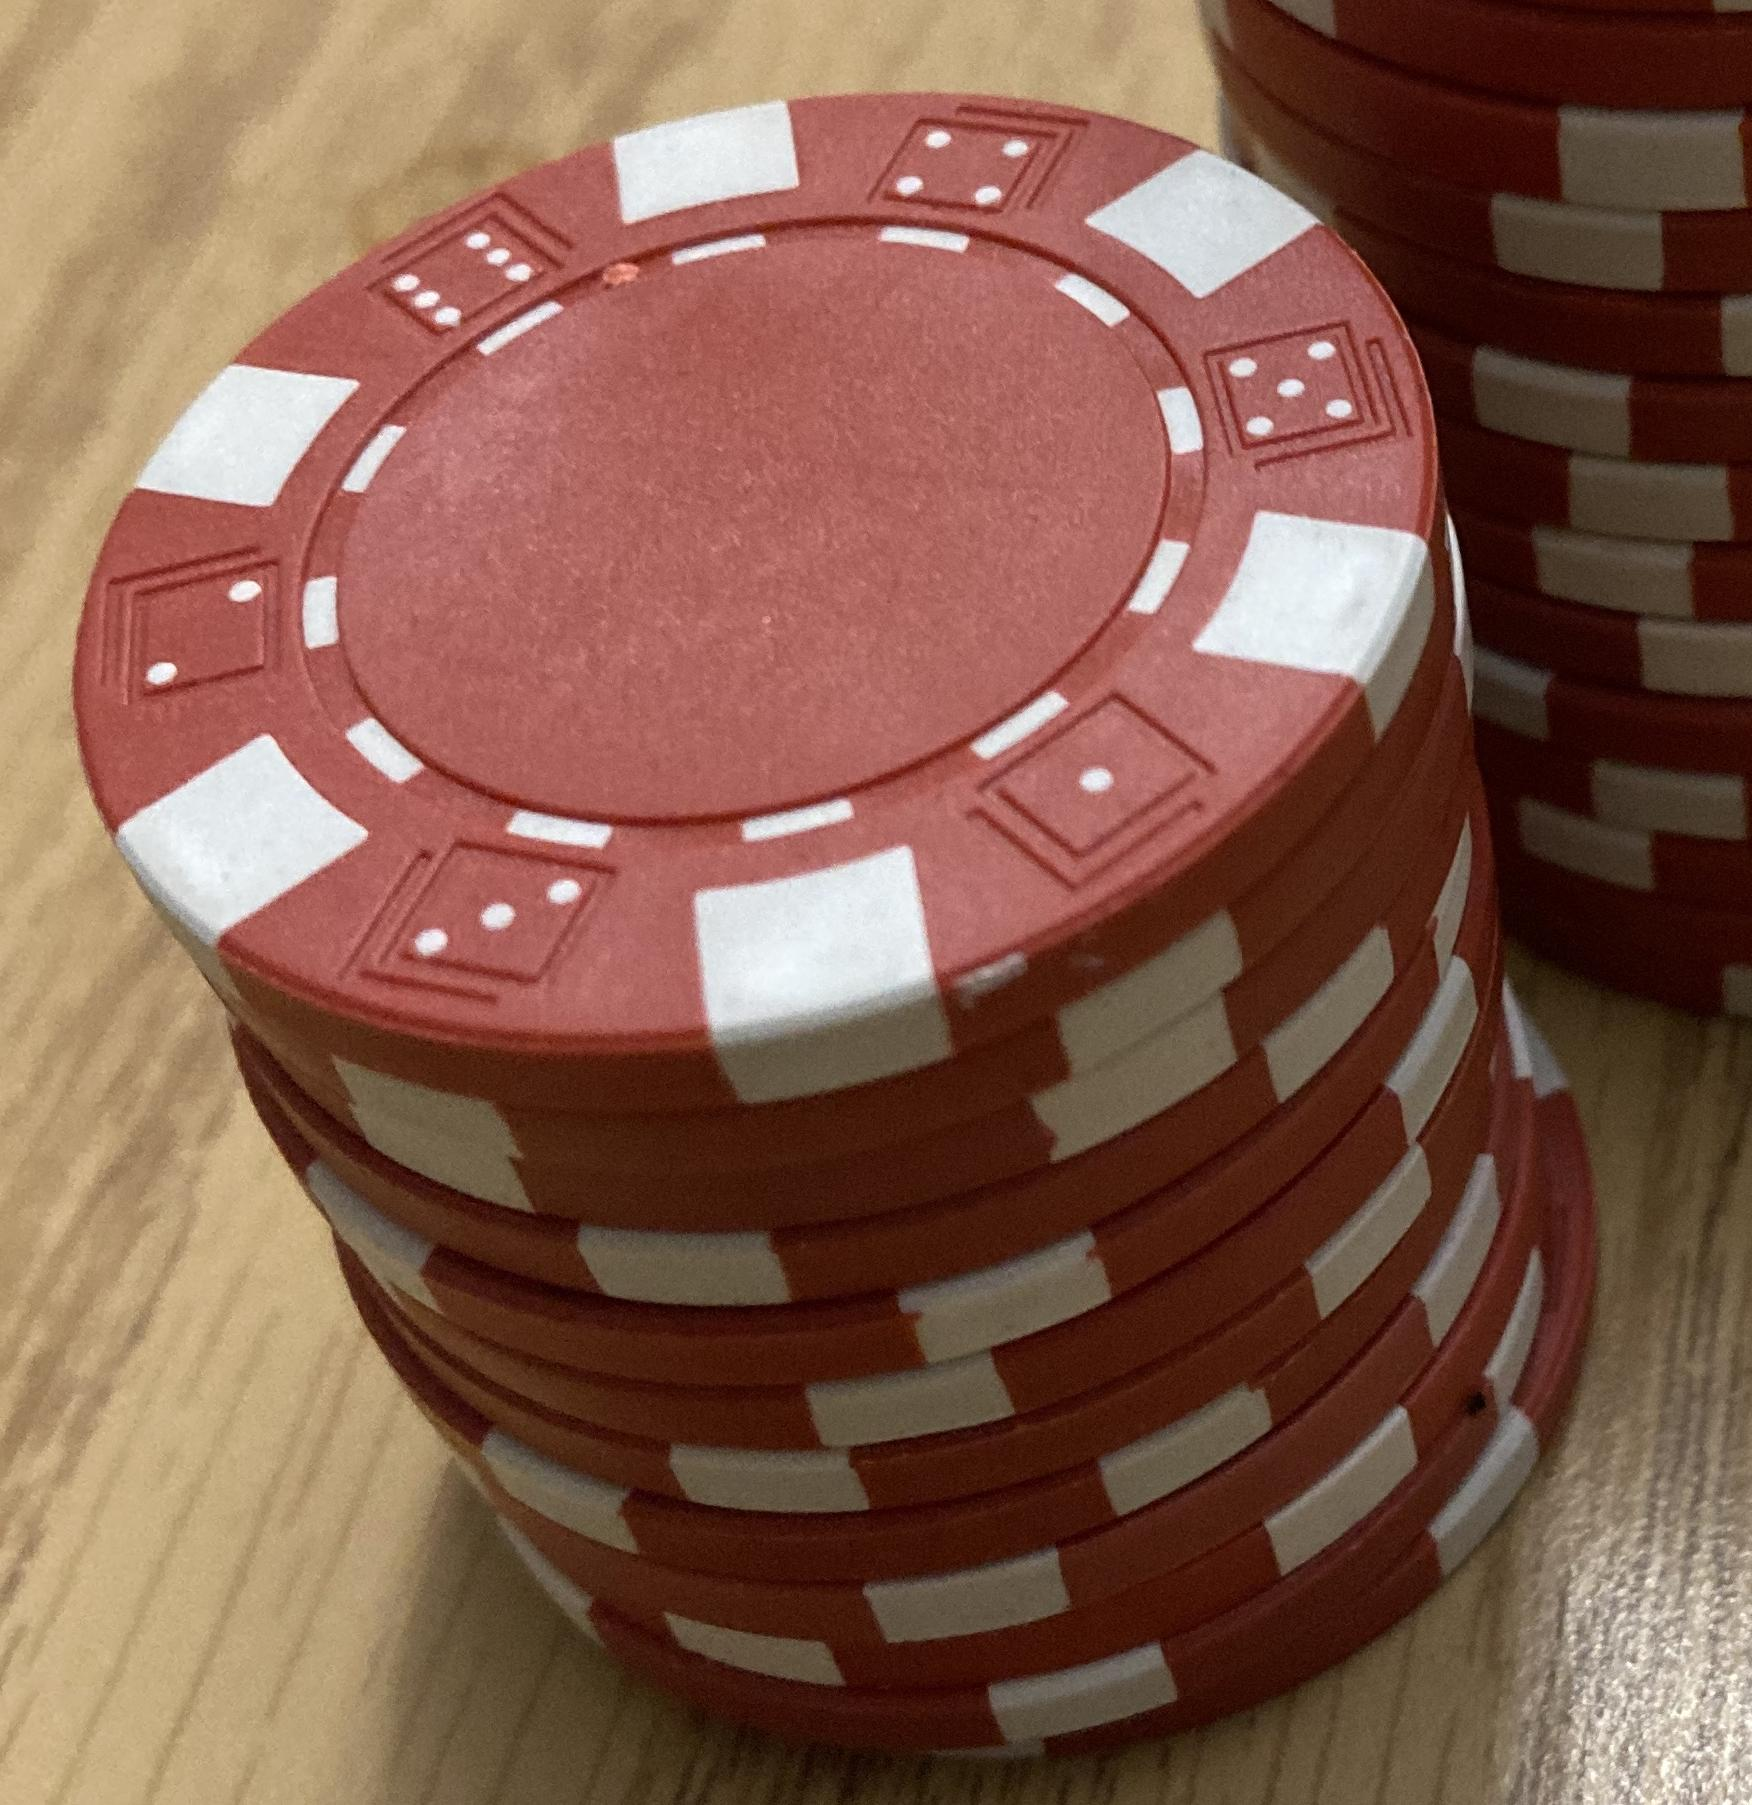Chip: (2, 2, 1752, 1805)
